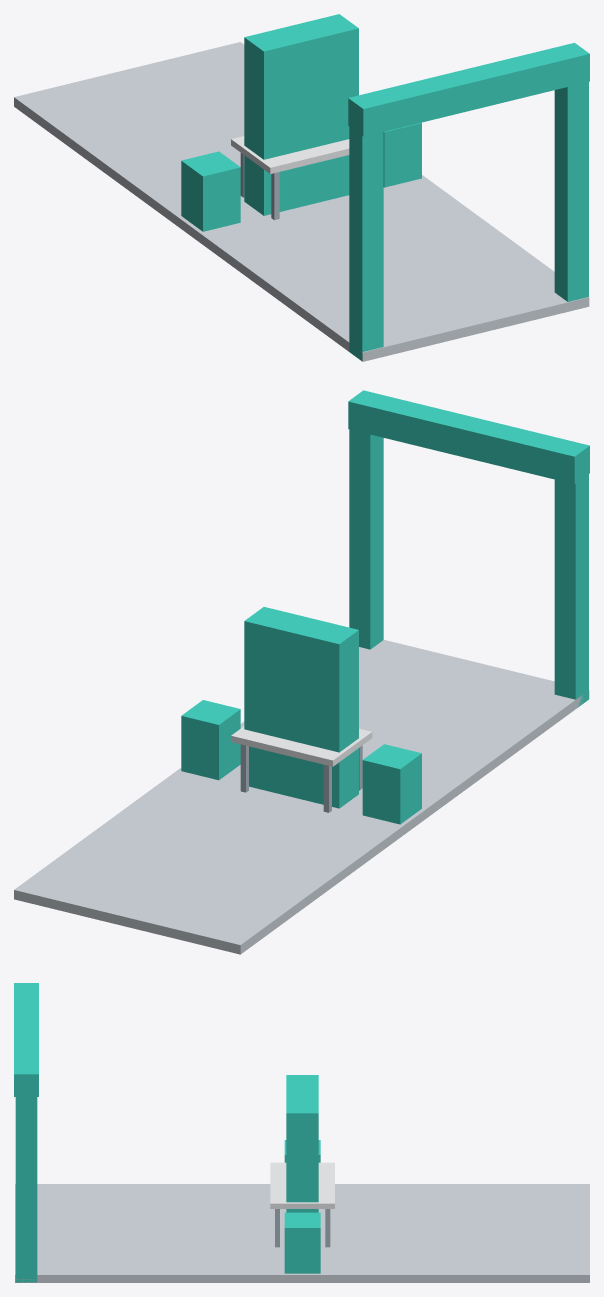
3 views of the same model, one above another, from view 1: azimuth 30°, elevation 25°; view 2: azimuth 150°, elevation 25°; view 3: azimuth 270°, elevation 25° (orthographic). The views are drawn at different scales.
Parts seen in each view (by area): view 1: Exhibition Booth Concept; view 2: Exhibition Booth Concept; view 3: Exhibition Booth Concept.
Part boxes in pixels (left/top/right/bottom): Exhibition Booth Concept: left=14, top=14, right=589, bottom=361; Exhibition Booth Concept: left=14, top=390, right=589, bottom=954; Exhibition Booth Concept: left=14, top=983, right=589, bottom=1282.
Bounding box in the file's own units: 3 × 3.2 × 8.01.
